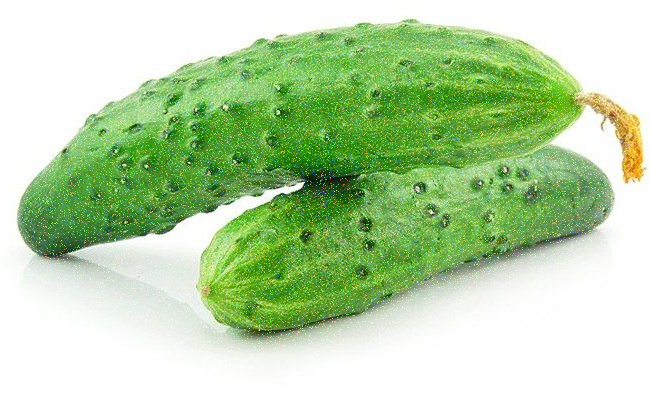cucumber: (27, 12, 586, 253), (216, 149, 609, 323)
